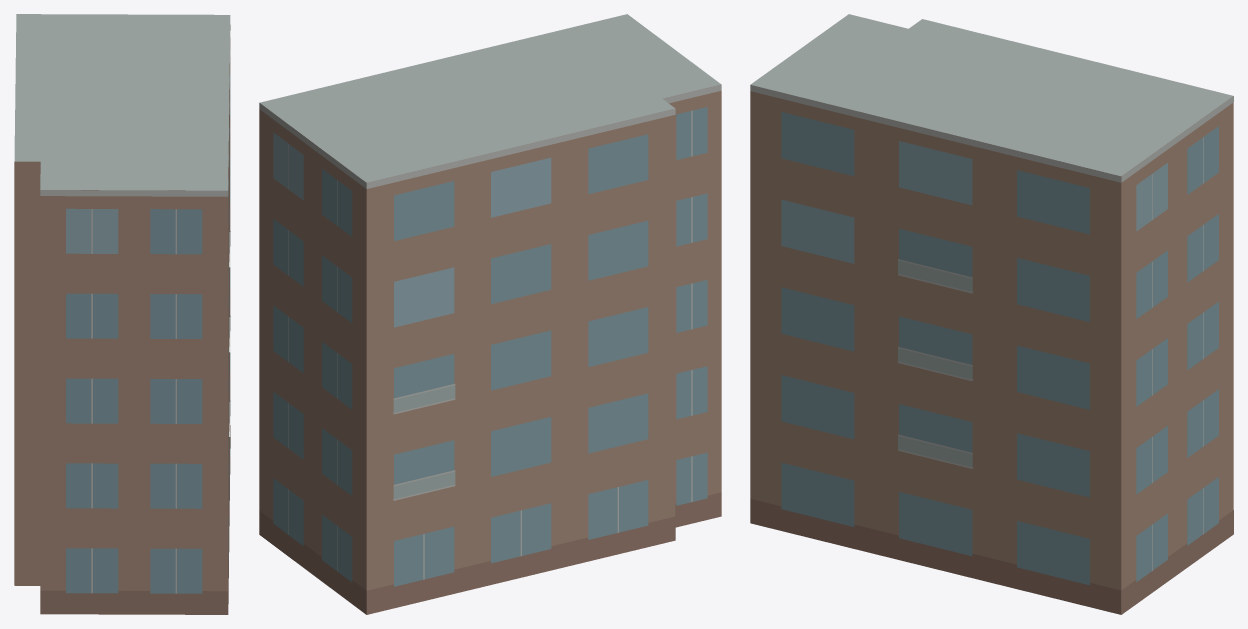
File: survey-upis-32653113.glb
3 renders of one model, left to right at view 1: azimuth 30°, elevation 25°; view 2: azimuth 150°, elevation 25°; view 3: azimuth 270°, elevation 25°, orthographic. The views are drawn at different scales.
Parts seen in each view (by area): view 1: survey-upis-32653113.tmp; view 2: survey-upis-32653113.tmp; view 3: survey-upis-32653113.tmp.
Part boxes in pixels (box(x1,y1,x2,y2)): survey-upis-32653113.tmp: box(14, 14, 230, 614); survey-upis-32653113.tmp: box(259, 14, 721, 614); survey-upis-32653113.tmp: box(750, 14, 1233, 614).
Size of the model in its own units: 13.35 by 16.8 by 16.8.
